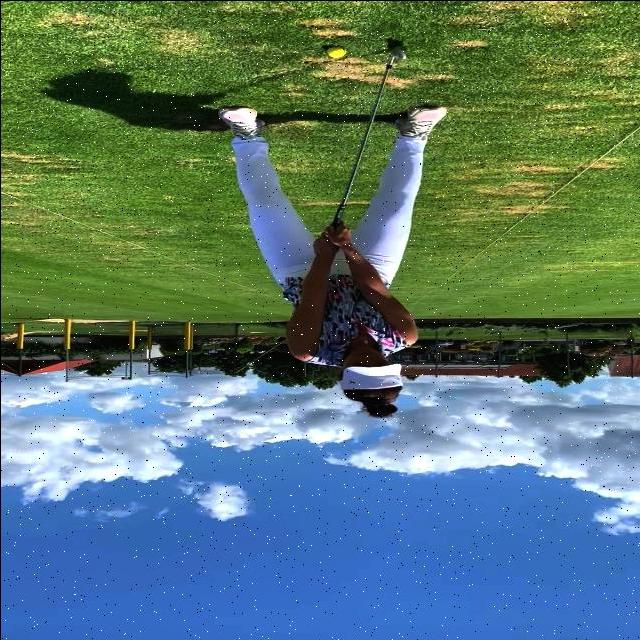ClubHandle: (330, 45, 405, 227)
ClubHead: (390, 45, 405, 59)
GolfBall: (325, 46, 345, 56)
